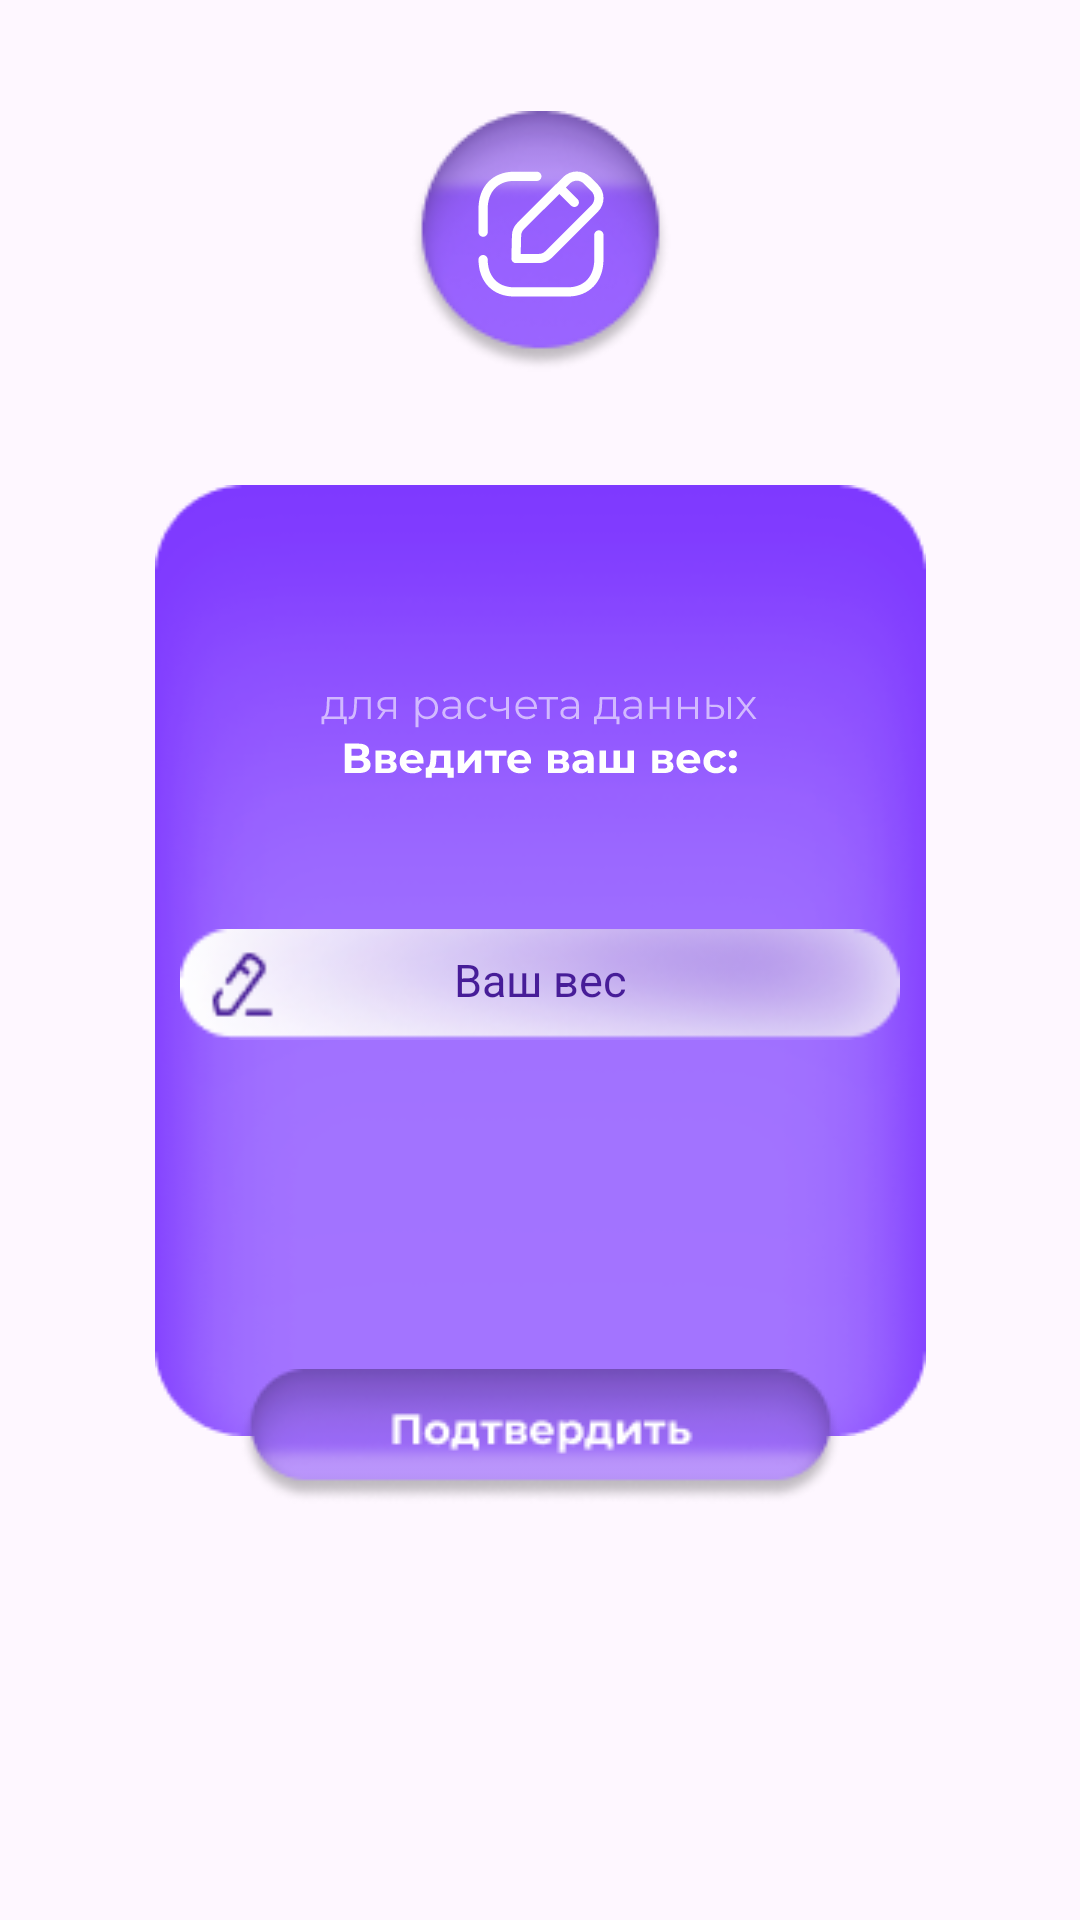

Screen size 1080w x 1920h. Icon name, then its center in pixels as (x,y):
edit square: (540,234)
